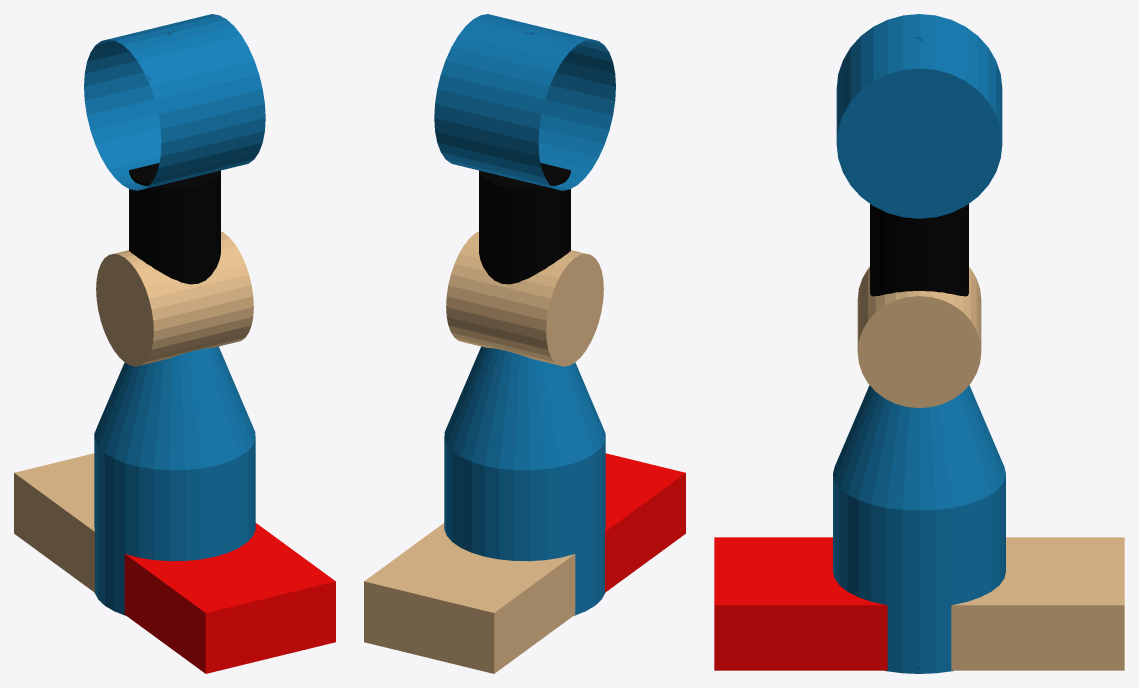
File: Robot_PI.obj
3 renders of one model, left to right at view 1: azimuth 30°, elevation 25°; view 2: azimuth 150°, elevation 25°; view 3: azimuth 270°, elevation 25°, orthographic. The views are drawn at different scales.
Visible parts, largest first — view 1: Robot.PI; view 2: Robot.PI; view 3: Robot.PI.
Part boxes in pixels (x1,y1,x2,y2): Robot.PI: (14,14,335,673); Robot.PI: (364,14,685,673); Robot.PI: (714,14,1124,673).
Bounding box in the file's own units: 0.4474 × 1.7 × 1.06.
Materials: 1 (1 with a texture image).
